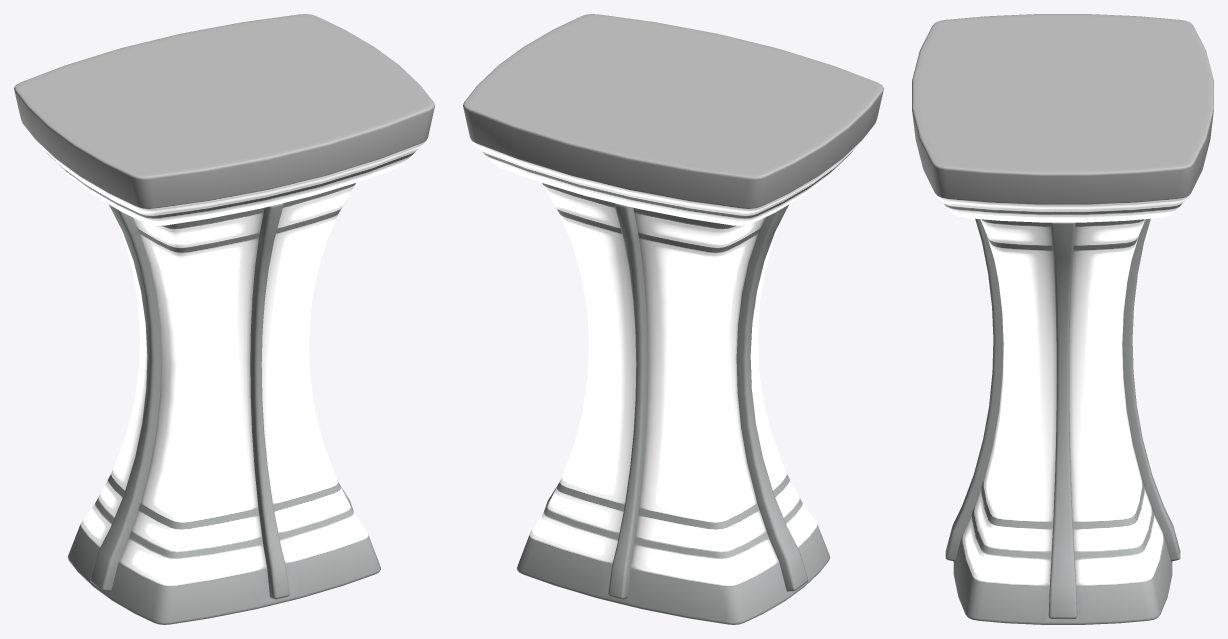
File: BarTable05.FBX
3 renders of one model, left to right at view 1: azimuth 30°, elevation 25°; view 2: azimuth 150°, elevation 25°; view 3: azimuth 270°, elevation 25°, orthographic.
Parts seen in each view (by area): view 1: BarTable05; view 2: BarTable05; view 3: BarTable05.
Boxes of the visible parts, x1=… form: BarTable05: x1=14, y1=14, x2=434, y2=624; BarTable05: x1=463, y1=14, x2=883, y2=624; BarTable05: x1=912, y1=14, x2=1213, y2=624.
Size of what is drawn, in the model's own units: 0.7997 by 1.1 by 0.6372.
